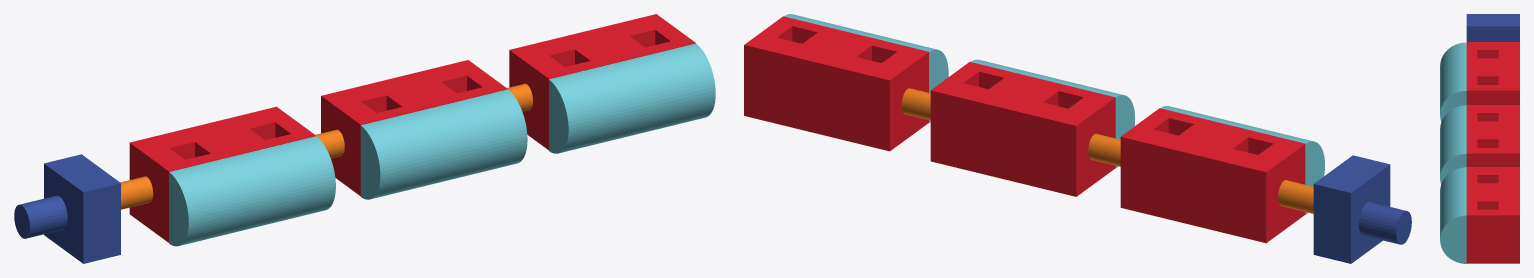
Rendered from tinker.obj.
3 renders of one model, left to right at view 1: azimuth 30°, elevation 25°; view 2: azimuth 150°, elevation 25°; view 3: azimuth 270°, elevation 25°, orthographic. The views are drawn at different scales.
Visible parts, largest first — view 1: group_0_7720667, group_0_15277357, group_0_3888547, group_0_16089887; view 2: group_0_15277357, group_0_3888547, group_0_7720667, group_0_16089887; view 3: group_0_15277357, group_0_7720667, group_0_3888547.
Part boxes in pixels (bbox=[...]): group_0_7720667: bbox=[169, 43, 715, 246]; group_0_15277357: bbox=[129, 14, 695, 242]; group_0_3888547: bbox=[14, 154, 120, 263]; group_0_16089887: bbox=[120, 83, 532, 209]; group_0_15277357: bbox=[744, 16, 1305, 243]; group_0_3888547: bbox=[1313, 155, 1411, 263]; group_0_7720667: bbox=[784, 14, 1324, 214]; group_0_16089887: bbox=[901, 88, 1313, 213]; group_0_15277357: bbox=[1466, 42, 1519, 263]; group_0_7720667: bbox=[1440, 42, 1466, 263]; group_0_3888547: bbox=[1466, 14, 1519, 41].
Bounding box in the file's own units: 190 × 20.15 × 30.
